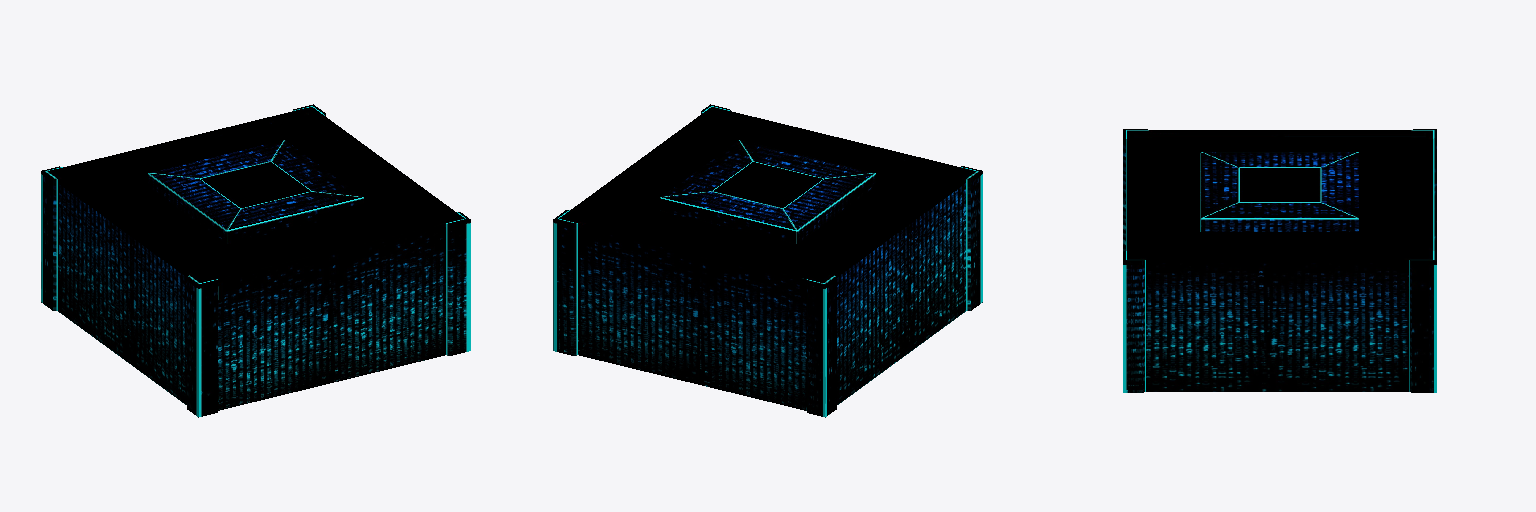
3 views of the same model, side by side, from view 1: azimuth 30°, elevation 25°; view 2: azimuth 150°, elevation 25°; view 3: azimuth 270°, elevation 25° (orthographic).
Parts seen in each view (by area): view 1: Cube.005_Cube.008; view 2: Cube.005_Cube.008; view 3: Cube.005_Cube.008.
Part boxes in pixels (x1,y1,x2,y2): Cube.005_Cube.008: (41,104,470,417); Cube.005_Cube.008: (553,104,982,417); Cube.005_Cube.008: (1123,129,1436,392).
Bounding box in the file's own units: 40.01 × 19.92 × 40.01.
Materials: 3 (1 with a texture image).